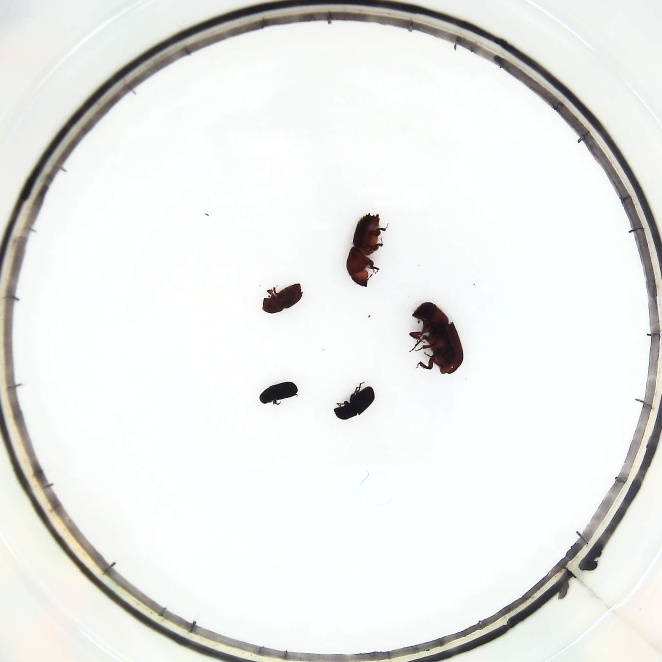armandi: (331, 381, 375, 423)
boerner: (347, 212, 388, 292)
coleoptera: (258, 382, 299, 407)
leconte: (407, 300, 468, 377)
linnaeus: (260, 281, 308, 316)
